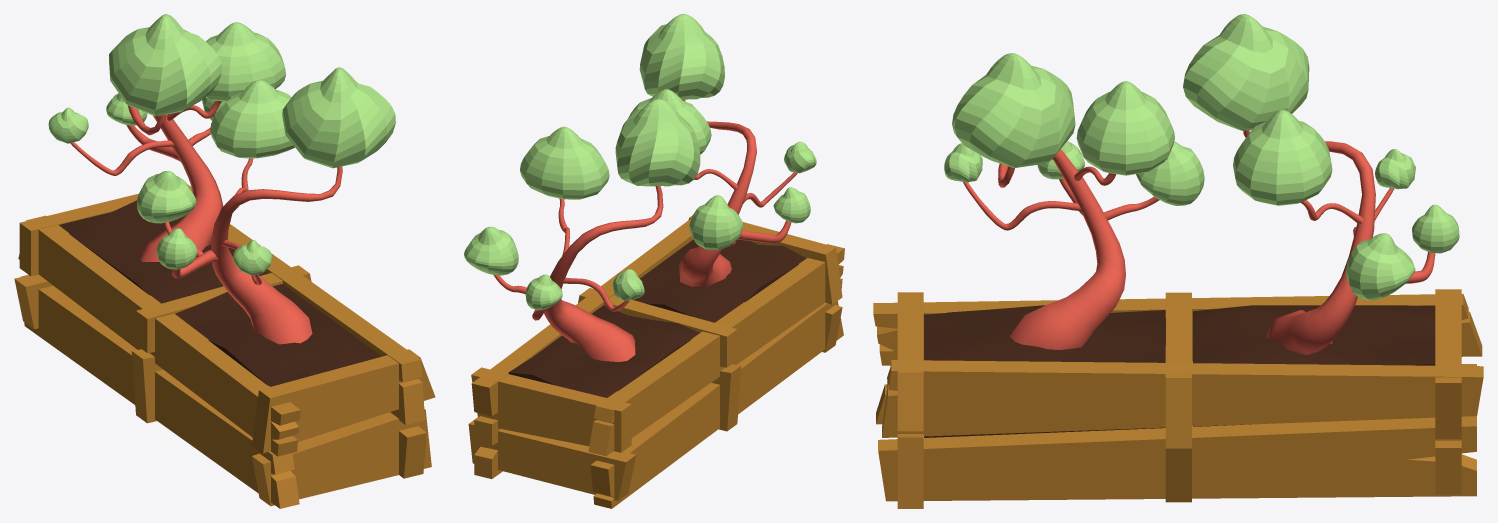
Rendered from ArtTree.fbx.
3 views of the same model, side by side, from view 1: azimuth 30°, elevation 25°; view 2: azimuth 150°, elevation 25°; view 3: azimuth 270°, elevation 25° (orthographic). The views are drawn at different scales.
Visible parts, largest first — view 1: Cube.034, Cube.035, Cube.036, Sphere.011, Sphere.006, BezierCurve.005, BezierCurve.006, Sphere.007, Sphere.012, Sphere.009, Sphere.010, Sphere.013 (+2 smaller); view 2: Cube.034, Cube.035, Cube.036, BezierCurve.006, Sphere.011, Sphere.006, Sphere.012, BezierCurve.005, Sphere.009, Sphere.014, Sphere.007, Sphere.015 (+3 smaller); view 3: Cube.034, Cube.036, Cube.035, Sphere.011, Sphere.006, BezierCurve.005, Sphere.012, Sphere.007, BezierCurve.006, Sphere.014, Sphere.009, Sphere.015 (+3 smaller).
Boxes of the visible parts, <box> form: Cube.034: <box>18,215,426,508</box>; Cube.035: <box>14,184,435,506</box>; Cube.036: <box>59,200,381,386</box>; Sphere.011: <box>109,14,221,116</box>; Sphere.006: <box>282,67,395,168</box>; BezierCurve.005: <box>164,158,342,344</box>; BezierCurve.006: <box>70,101,223,261</box>; Sphere.007: <box>210,80,294,158</box>; Sphere.012: <box>205,22,285,101</box>; Sphere.009: <box>136,171,196,223</box>; Sphere.010: <box>156,228,197,269</box>; Sphere.013: <box>48,107,88,143</box>; Cube.034: <box>471,218,844,508</box>; Cube.035: <box>468,215,842,500</box>; Cube.036: <box>508,239,806,397</box>; BezierCurve.006: <box>493,186,663,361</box>; Sphere.011: <box>615,99,700,186</box>; Sphere.006: <box>639,14,724,99</box>; Sphere.012: <box>520,126,609,199</box>; BezierCurve.005: <box>679,99,797,286</box>; Sphere.009: <box>689,195,743,250</box>; Sphere.014: <box>464,226,518,275</box>; Sphere.007: <box>627,89,711,154</box>; Sphere.015: <box>525,274,562,310</box>; Cube.034: <box>873,293,1483,501</box>; Cube.036: <box>924,305,1435,437</box>; Cube.035: <box>897,289,1461,508</box>; Sphere.011: <box>1183,14,1309,130</box>; Sphere.006: <box>952,53,1075,167</box>; BezierCurve.005: <box>963,149,1159,349</box>; Sphere.012: <box>1233,110,1332,205</box>; Sphere.007: <box>1076,81,1174,175</box>; BezierCurve.006: <box>1243,130,1435,355</box>; Sphere.014: <box>1346,233,1415,300</box>; Sphere.009: <box>1136,141,1204,205</box>; Sphere.015: <box>1412,204,1459,253</box>.
Bounding box in the file's own units: 102 × 152 × 196.
